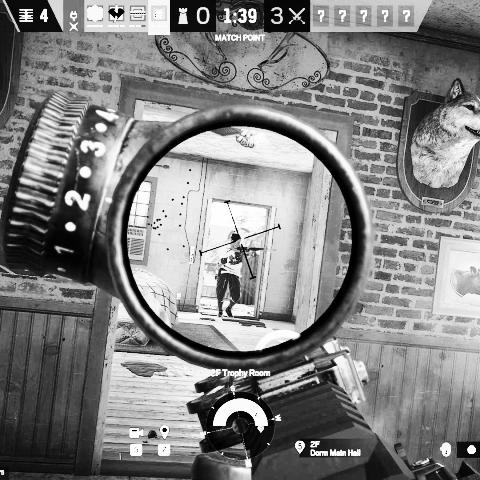Character: (216, 231, 267, 320)
Head: (229, 232, 242, 248)
